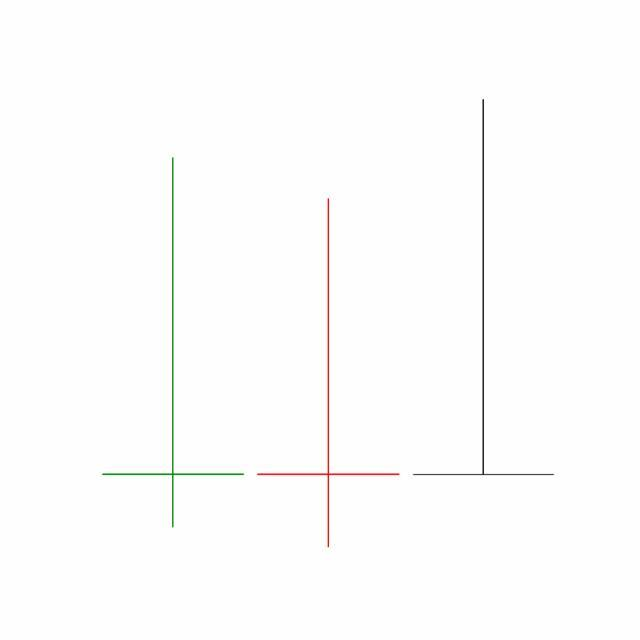Gravestone Doji: (406, 96, 562, 480)
